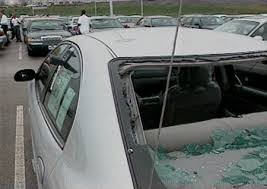Broken-glass: (117, 64, 267, 187)
